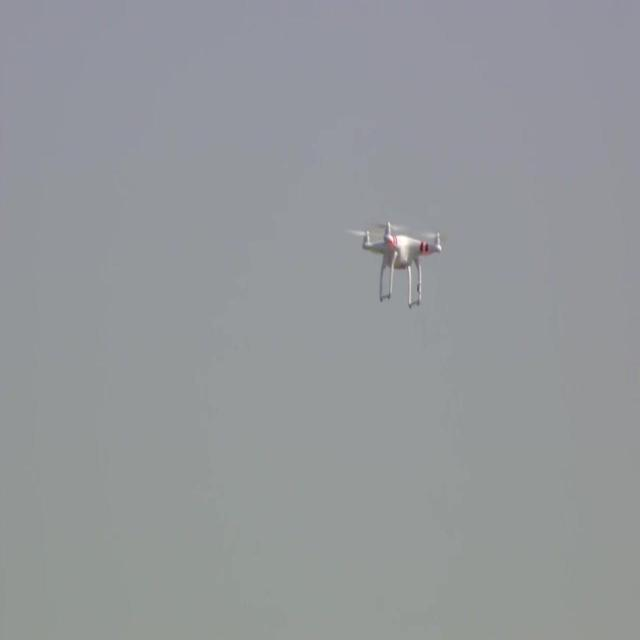UAV: (351, 222, 442, 308)
